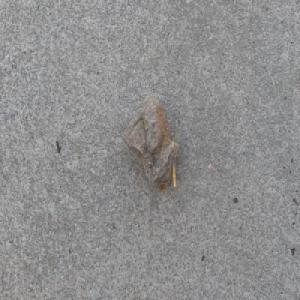Rock: (121, 94, 178, 192)
